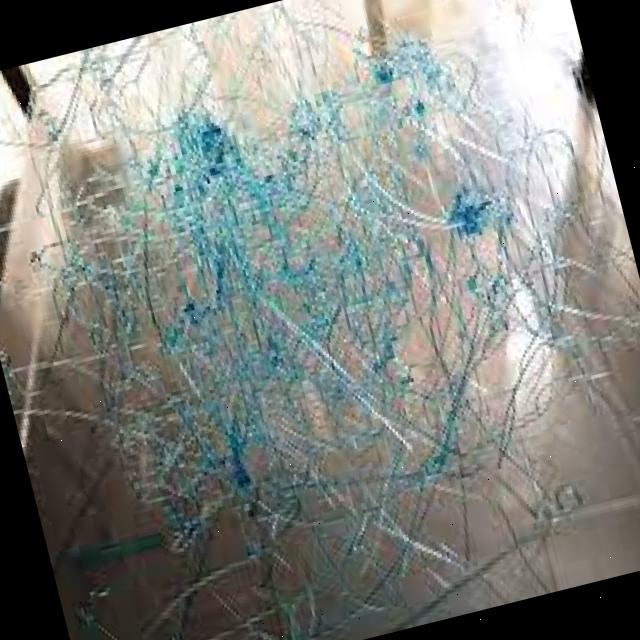spaghetti: (0, 0, 607, 612)
